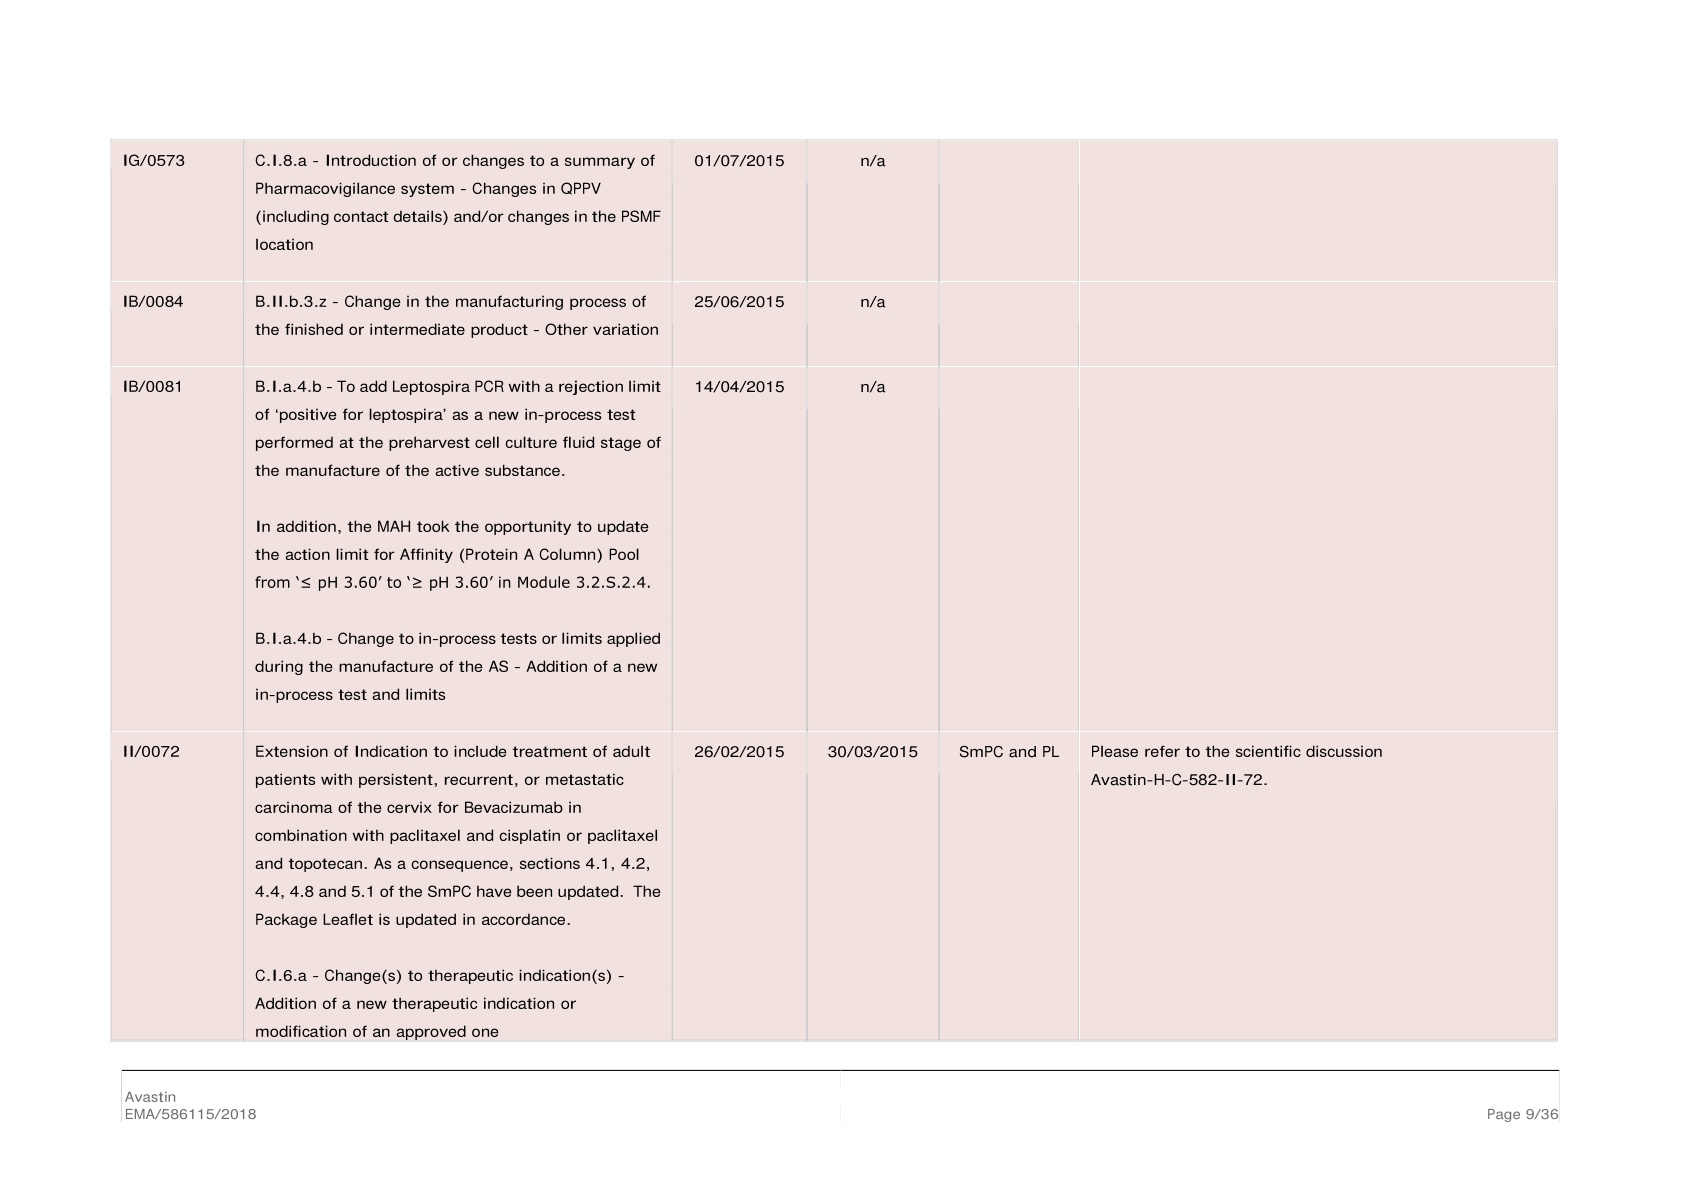full_lined: (109, 137, 1558, 1042)
